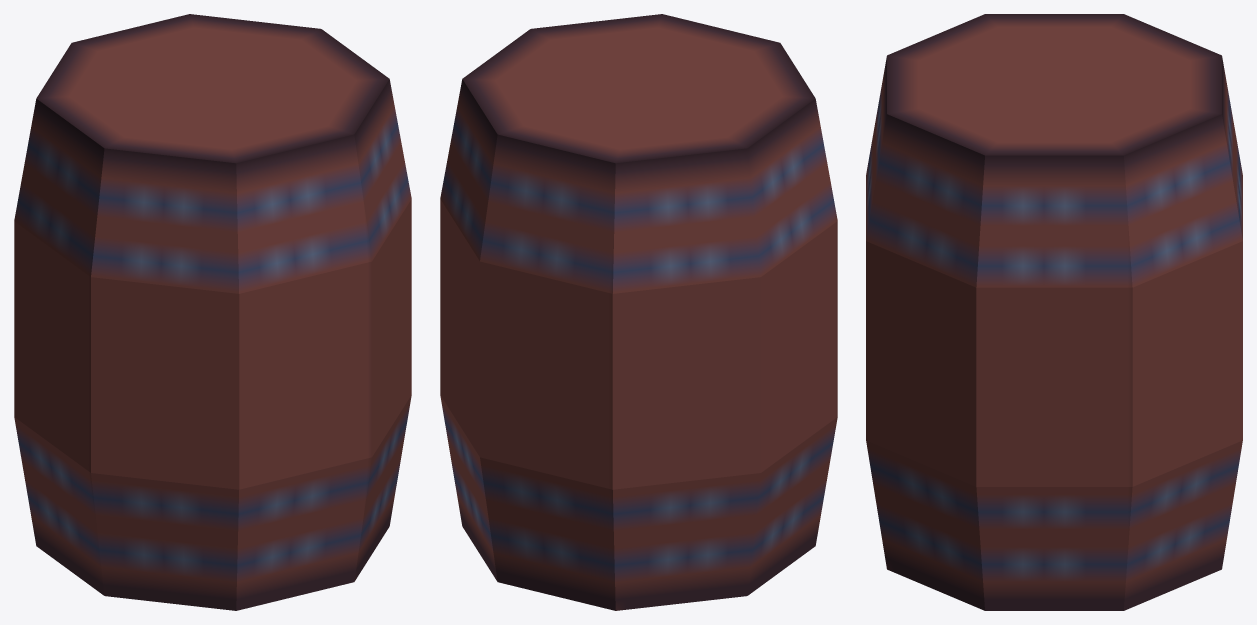
The model's file is barrel.dae.
3 views of the same model, side by side, from view 1: azimuth 30°, elevation 25°; view 2: azimuth 150°, elevation 25°; view 3: azimuth 270°, elevation 25° (orthographic).
Visible parts, largest first — view 1: barrel; view 2: barrel; view 3: barrel.
Part boxes in pixels (bbox=[...]): barrel: bbox=[14, 14, 411, 610]; barrel: bbox=[440, 14, 837, 610]; barrel: bbox=[866, 14, 1242, 610].
Bounding box in the file's own units: 1.12 × 1.5 × 1.12.
1 material, 1 textured.
